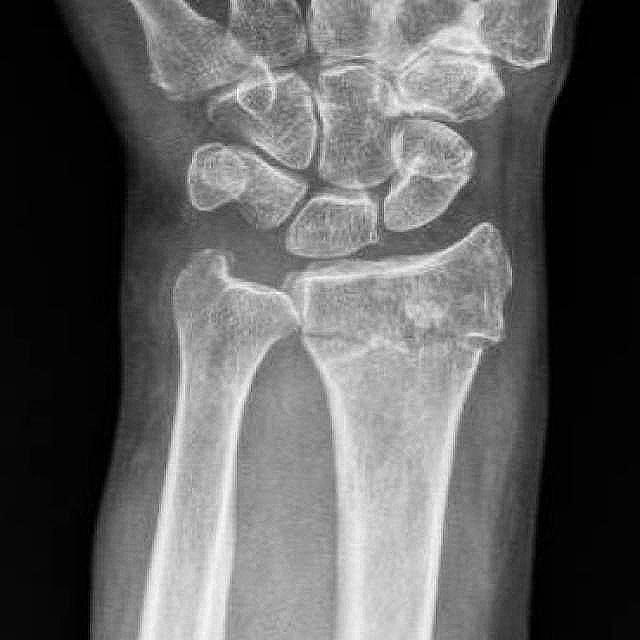bone: (278, 218, 524, 416)
